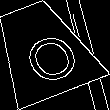O_NW: (8, 18, 77, 82)
